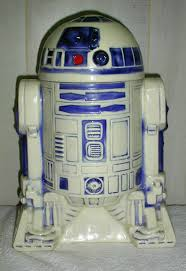r2d2: (17, 13, 177, 251)
